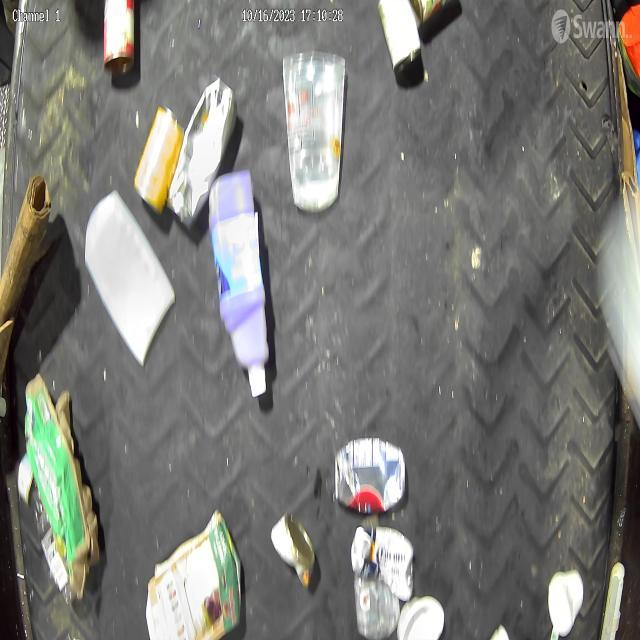can: (334, 434, 406, 510), (270, 514, 316, 584)
non_white_jug: (203, 168, 274, 367)
